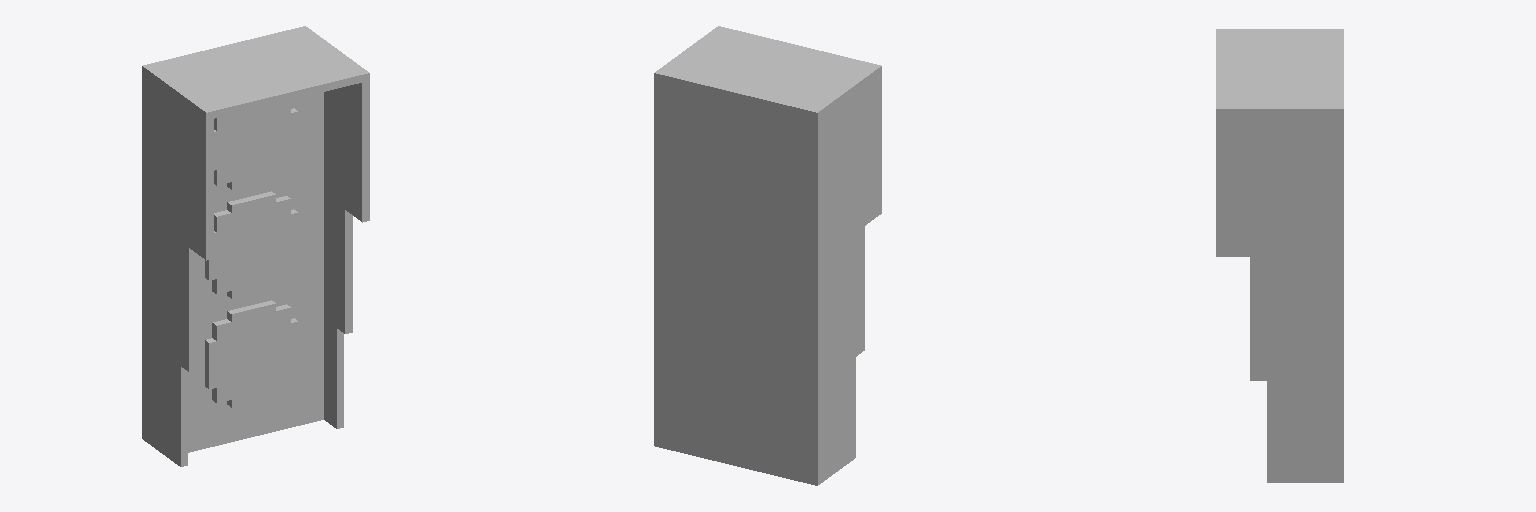
Rendered from trafficLight.obj.
3 renders of one model, left to right at view 1: azimuth 30°, elevation 25°; view 2: azimuth 150°, elevation 25°; view 3: azimuth 270°, elevation 25°, orthographic.
Parts seen in each view (by area): view 1: object 1; view 2: object 1; view 3: object 1.
Part boxes in pixels (x1,y1,x2,y2): object 1: (142, 26, 369, 466); object 1: (654, 26, 881, 485); object 1: (1216, 29, 1343, 482).
Size of the model in its own units: 2.2 by 4.8 by 1.5.